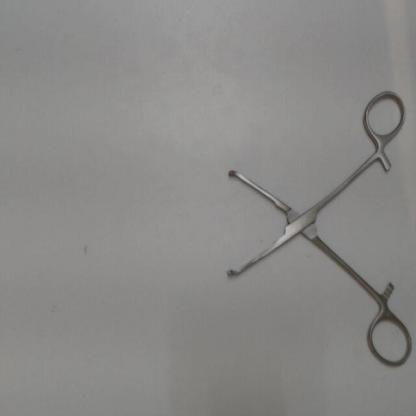Allis Tissue Forceps: (221, 84, 414, 372)
